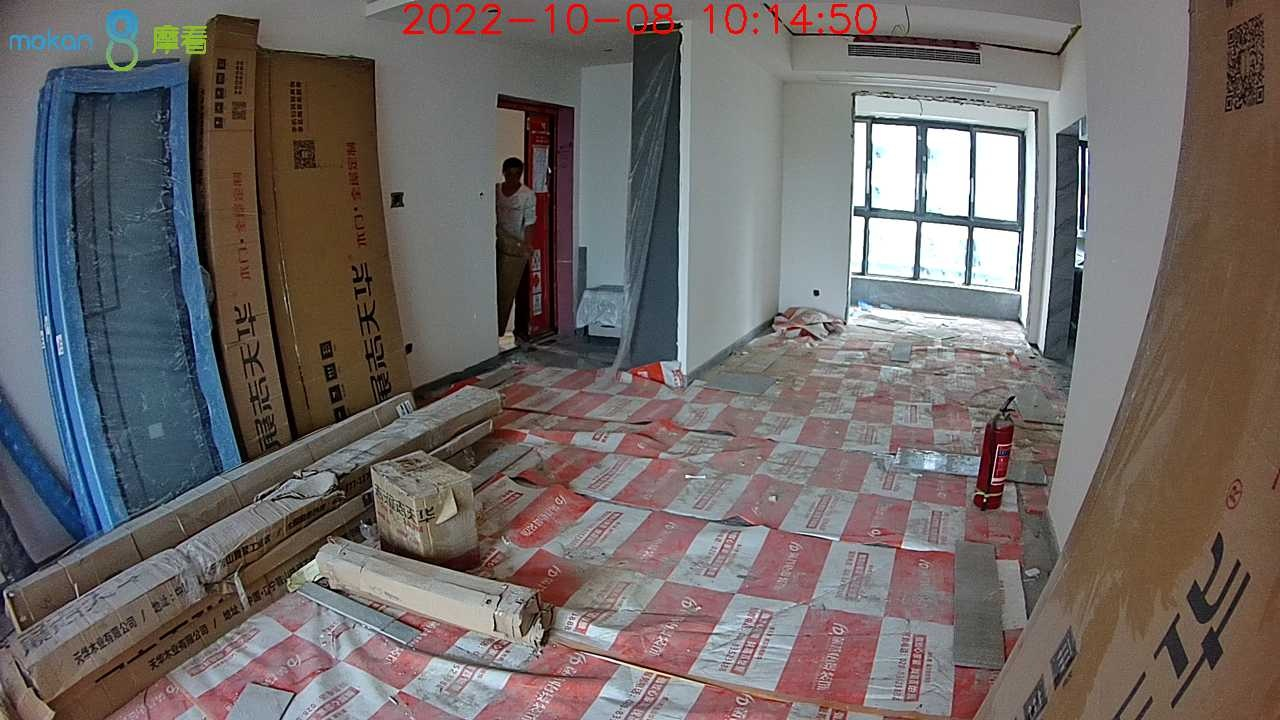people: (496, 158, 537, 353)
window: (849, 116, 1025, 295)
